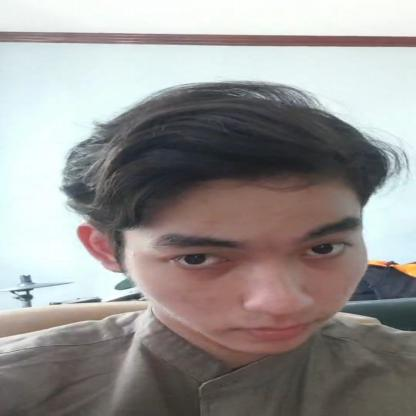Palm: (47, 70, 415, 378)
